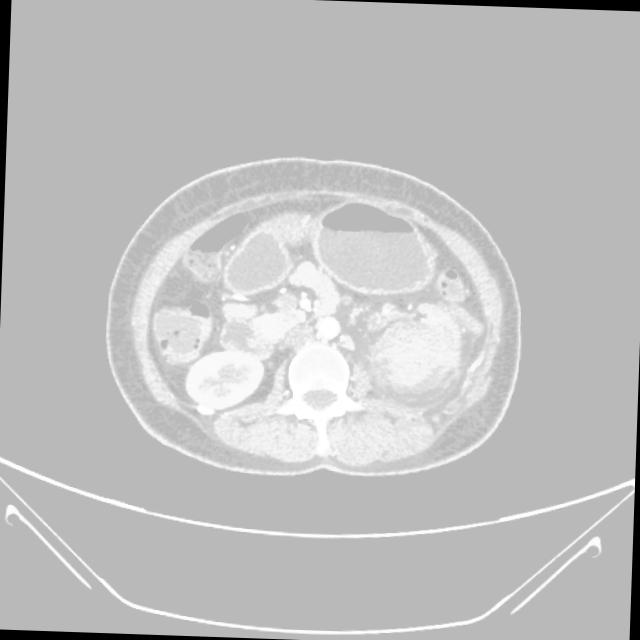TUMOR: (103, 166, 479, 348)
